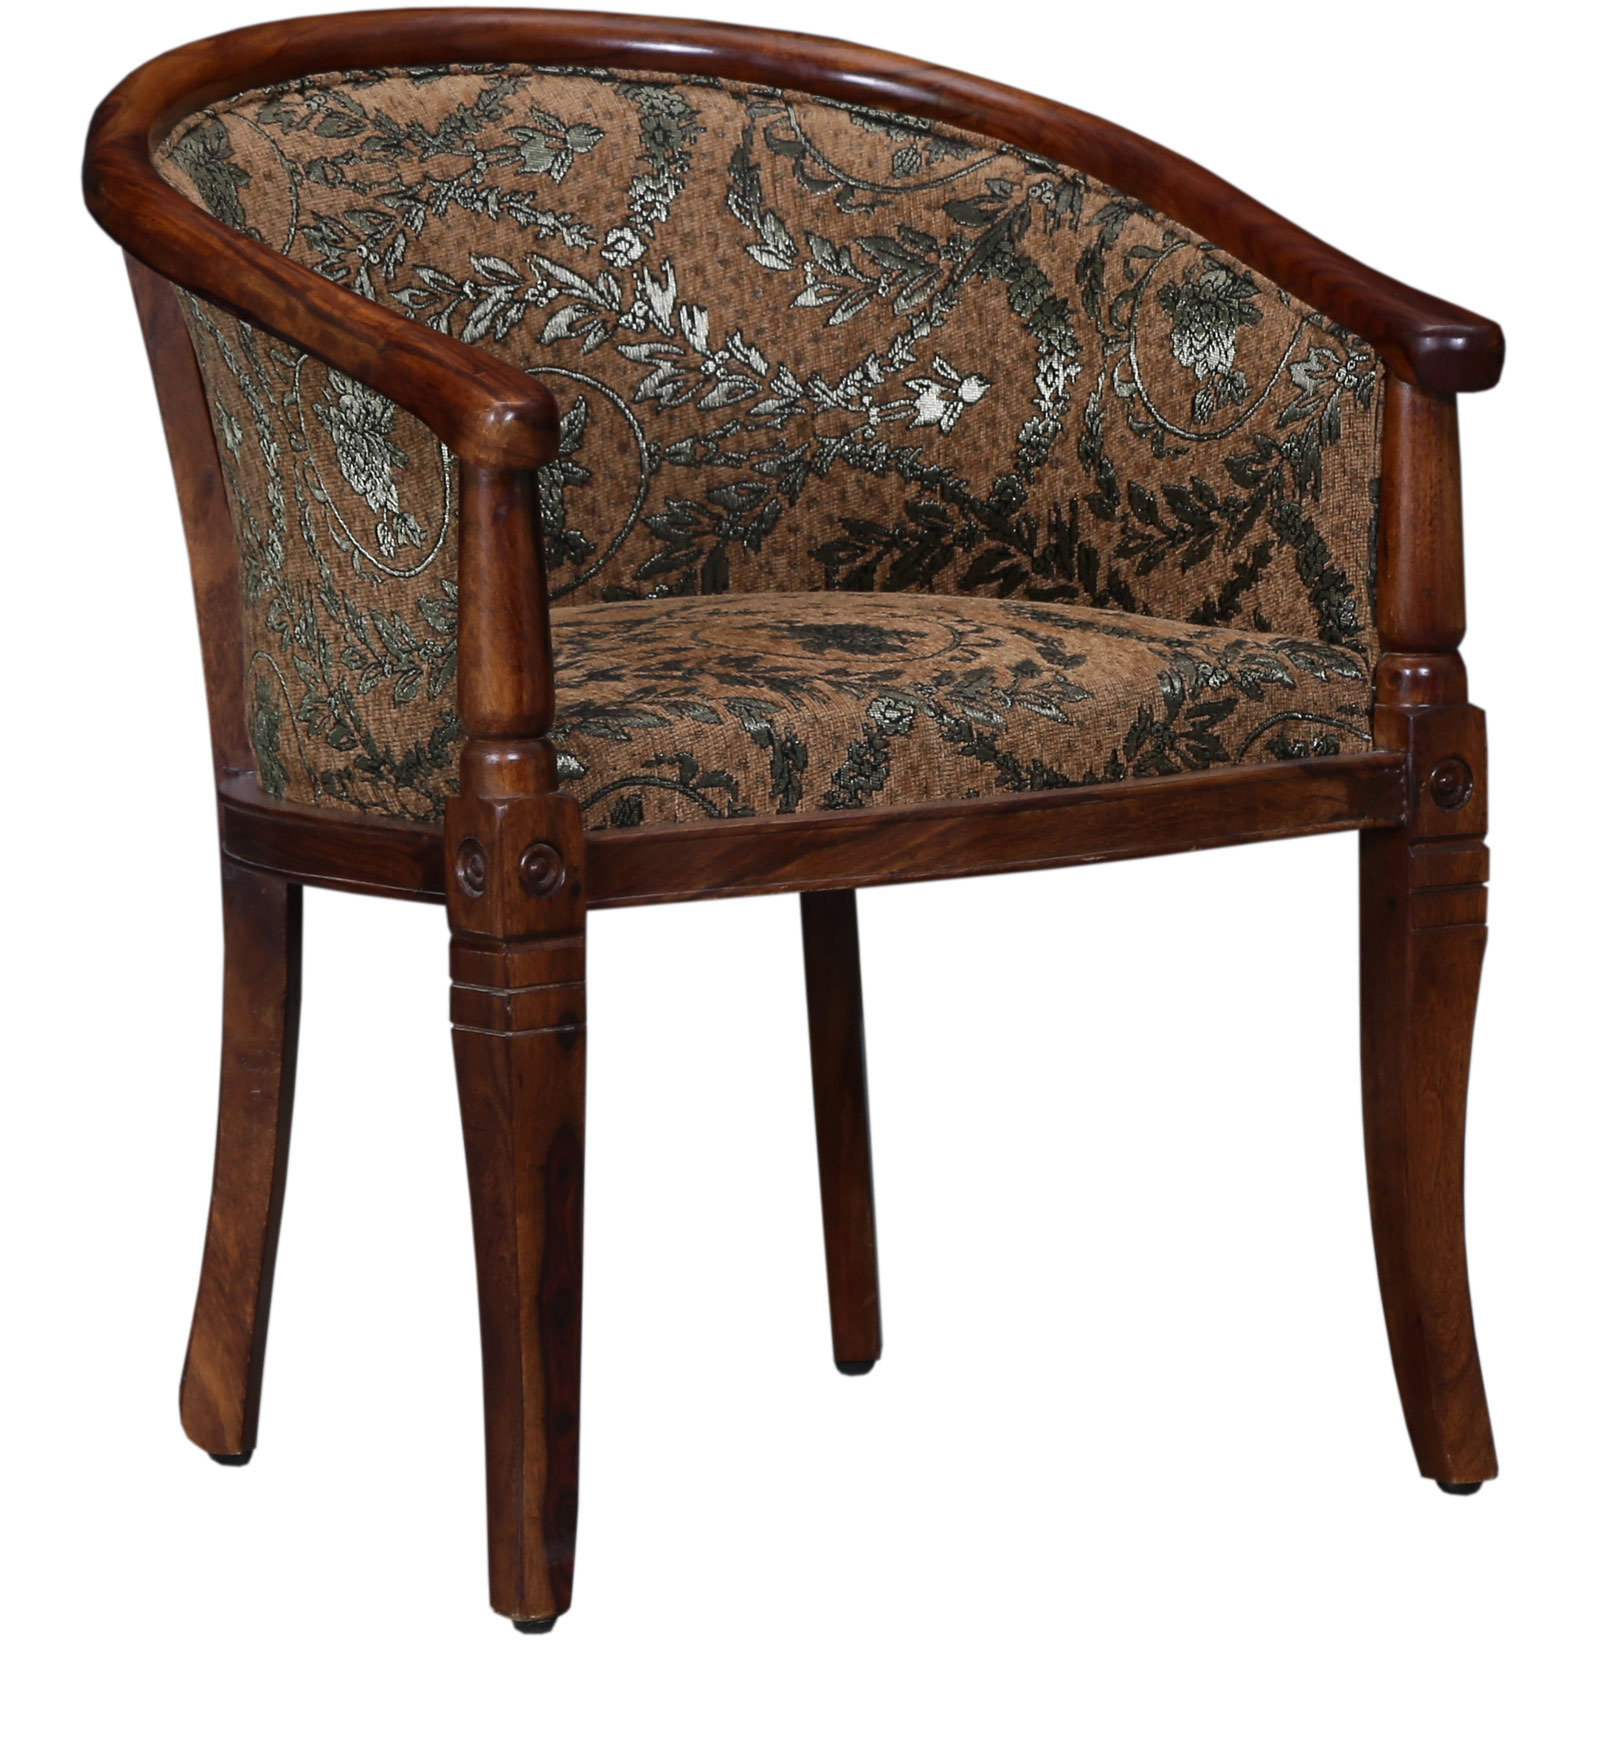Stalley Arm Chair in Honey Oak Finish by Amberville: (61, 25, 1571, 1666)
